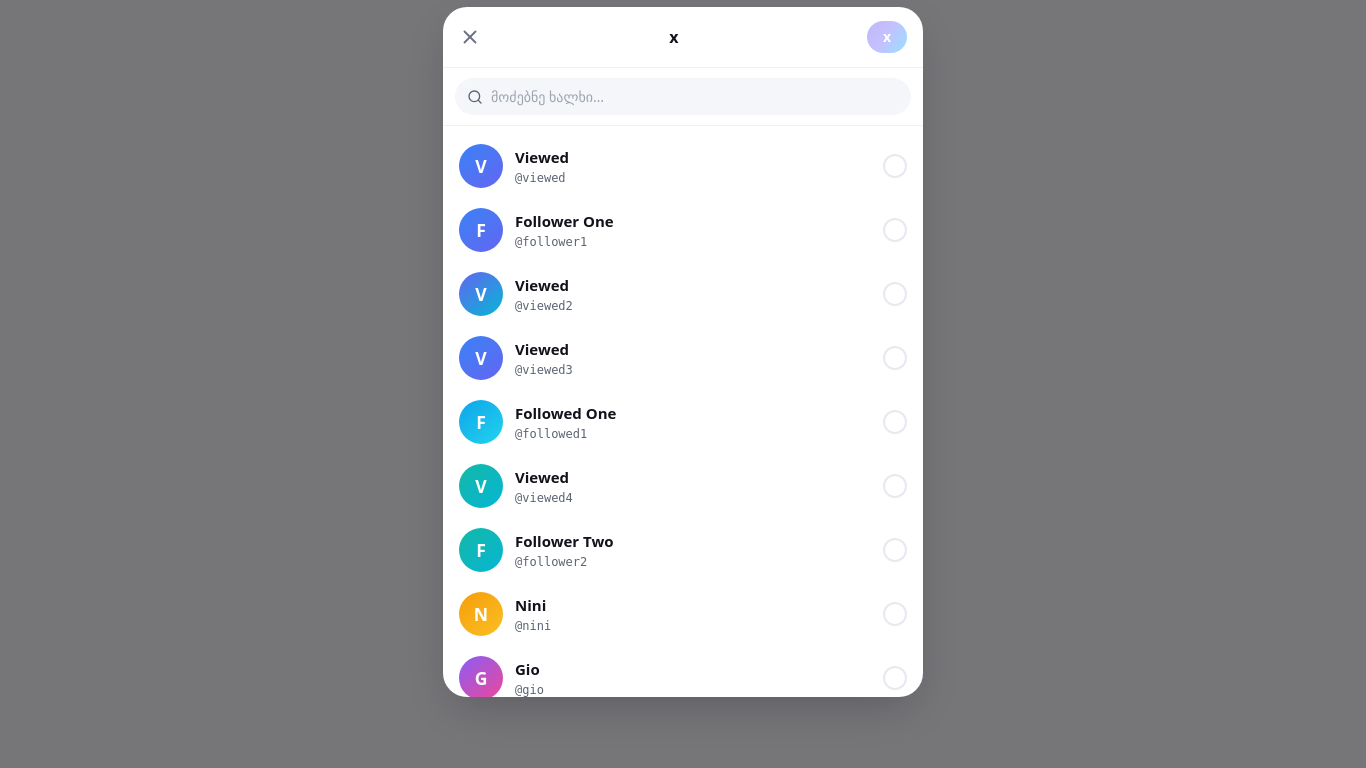
Test: PeoplePicker › searches remotely for a user not already known locally
The width and height of the screenshot is (1366, 768).
Type "remote" into the field with placeholder "მოძებნე ხალხი…". click: (695, 96)
box: [491, 86, 899, 107]
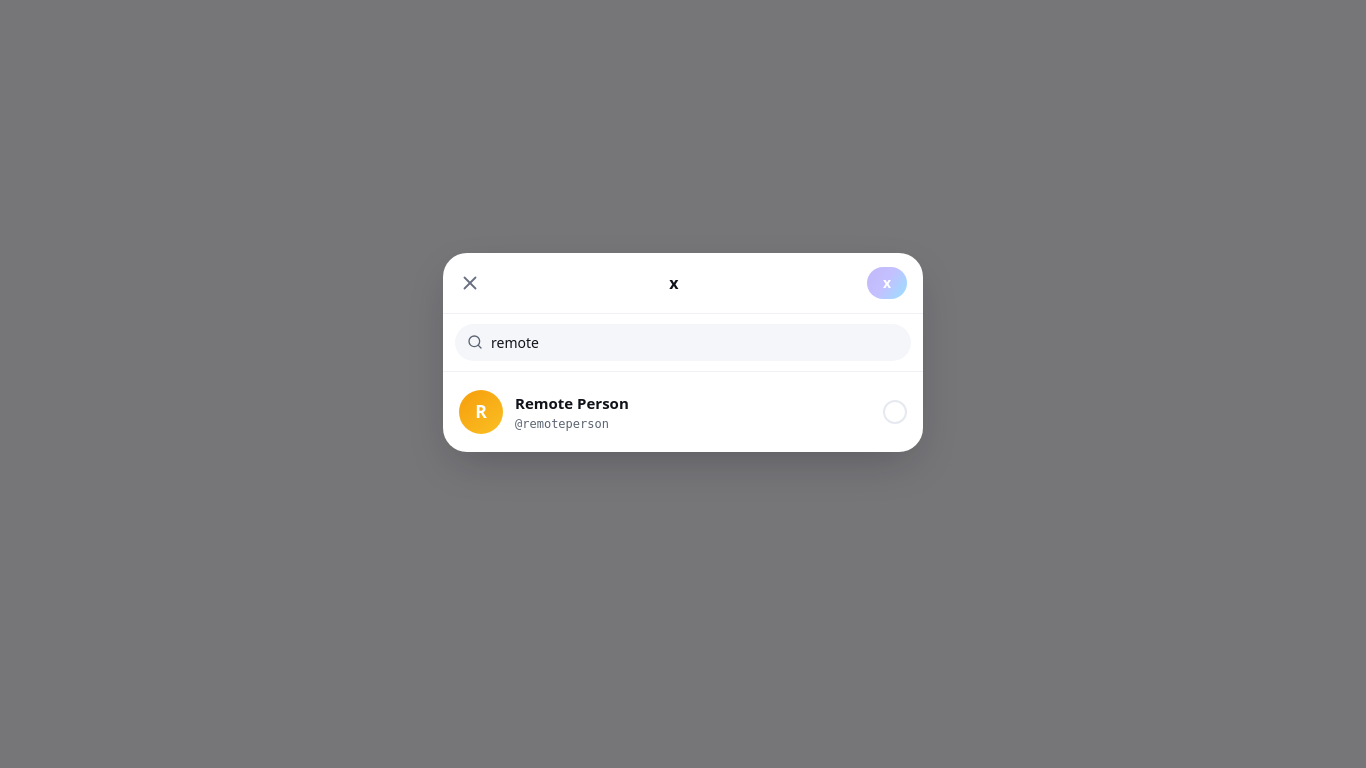
Expected: the text "Remote Person" is shown, [515, 392, 629, 414]
